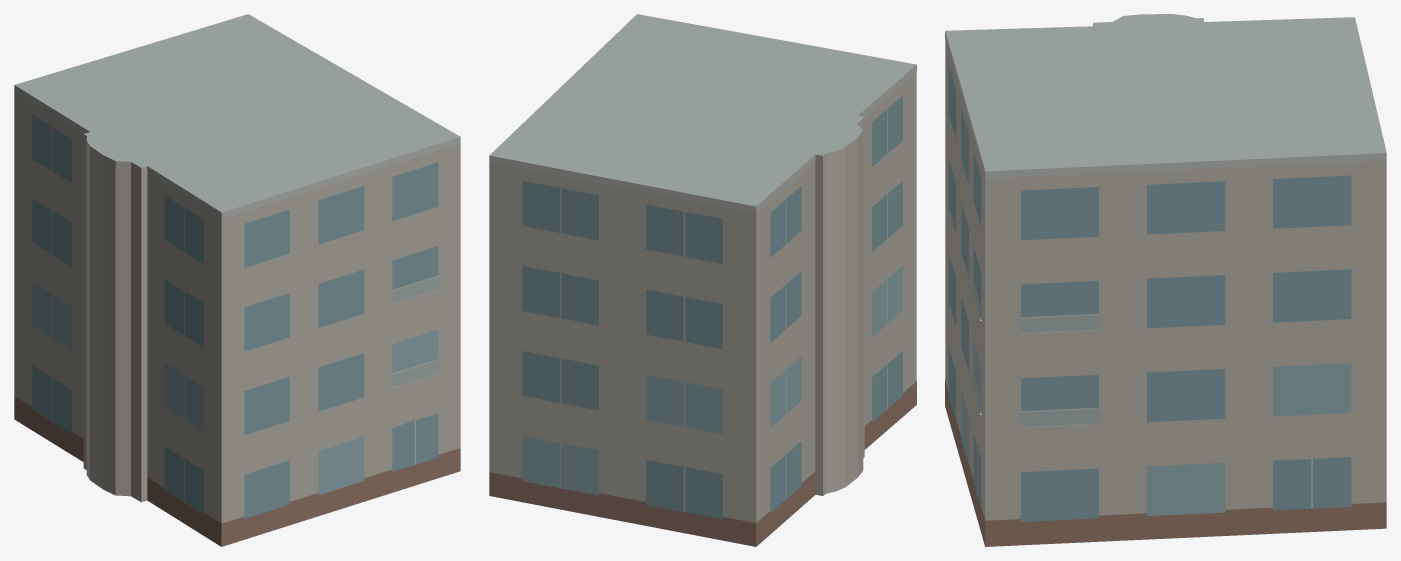
File: survey-upis-32663259.glb
3 renders of one model, left to right at view 1: azimuth 30°, elevation 25°; view 2: azimuth 150°, elevation 25°; view 3: azimuth 270°, elevation 25°, orthographic. The views are drawn at different scales.
Visible parts, largest first — view 1: survey-upis-32663259.tmp; view 2: survey-upis-32663259.tmp; view 3: survey-upis-32663259.tmp.
Boxes of the visible parts, bbox=[...] form: survey-upis-32663259.tmp: bbox=[14, 14, 460, 546]; survey-upis-32663259.tmp: bbox=[489, 14, 916, 546]; survey-upis-32663259.tmp: bbox=[945, 14, 1386, 546].
Size of the model in its own units: 11.16 by 12.4 by 13.23.
